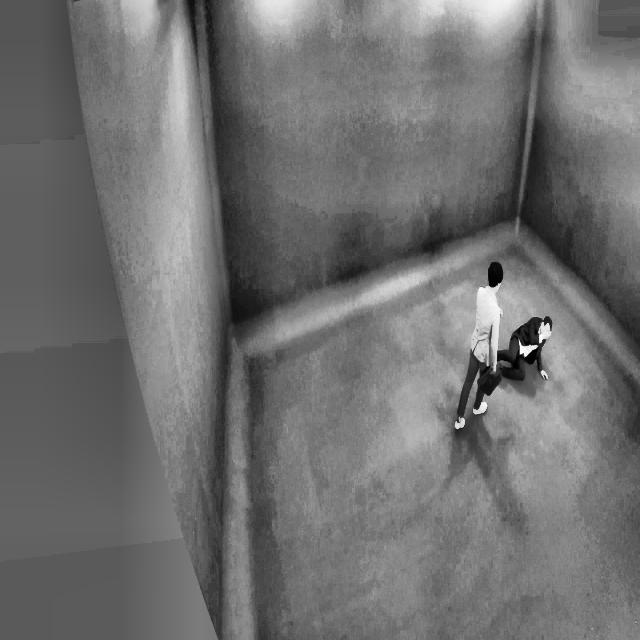assult: (450, 246, 570, 444), (509, 294, 562, 392)
